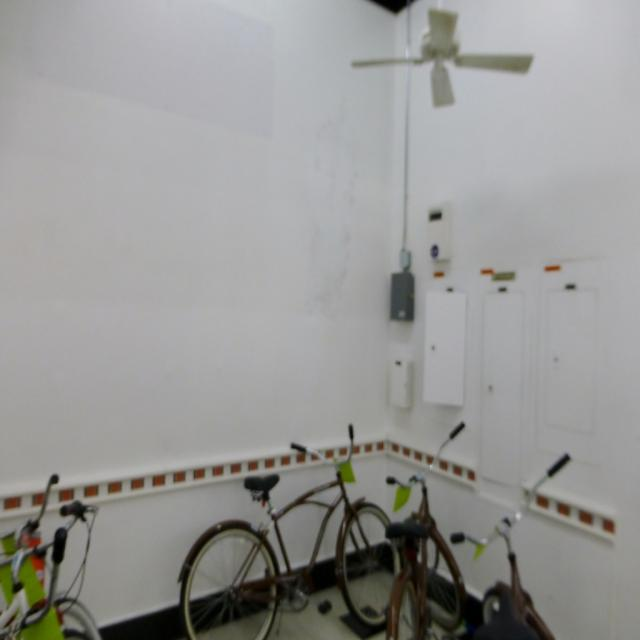Bulb: (358, 14, 533, 131)
